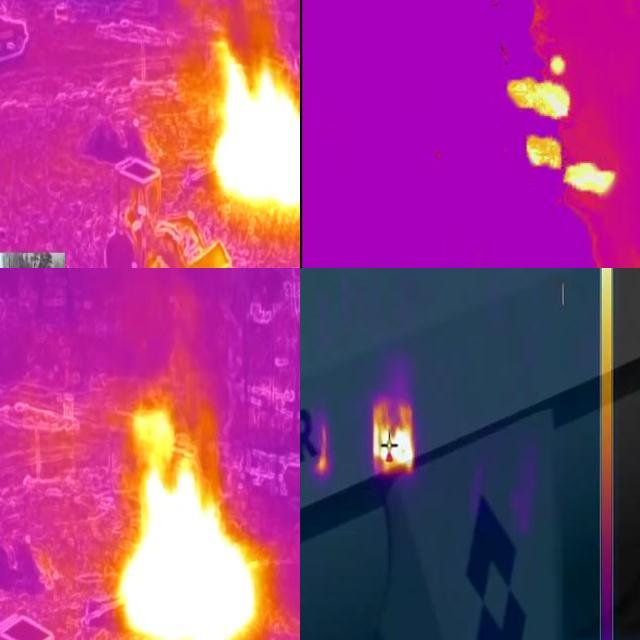fire: (119, 450, 261, 640), (509, 51, 622, 196), (213, 39, 301, 213), (374, 395, 414, 479)
